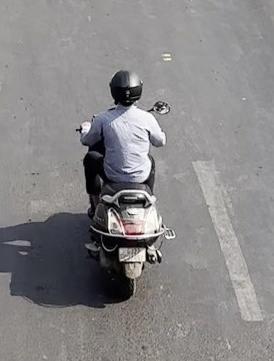BikeWithRider: (72, 67, 178, 299)
Helmet: (107, 68, 145, 109)
